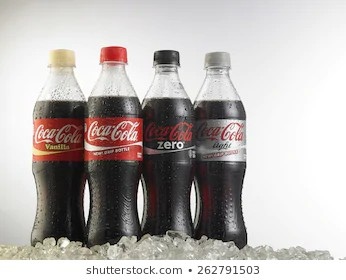coke-bottle-700ml: (84, 43, 138, 249)
coke-diet/zero-bottle-700ml: (22, 44, 85, 244), (194, 50, 253, 238), (141, 44, 193, 241)
